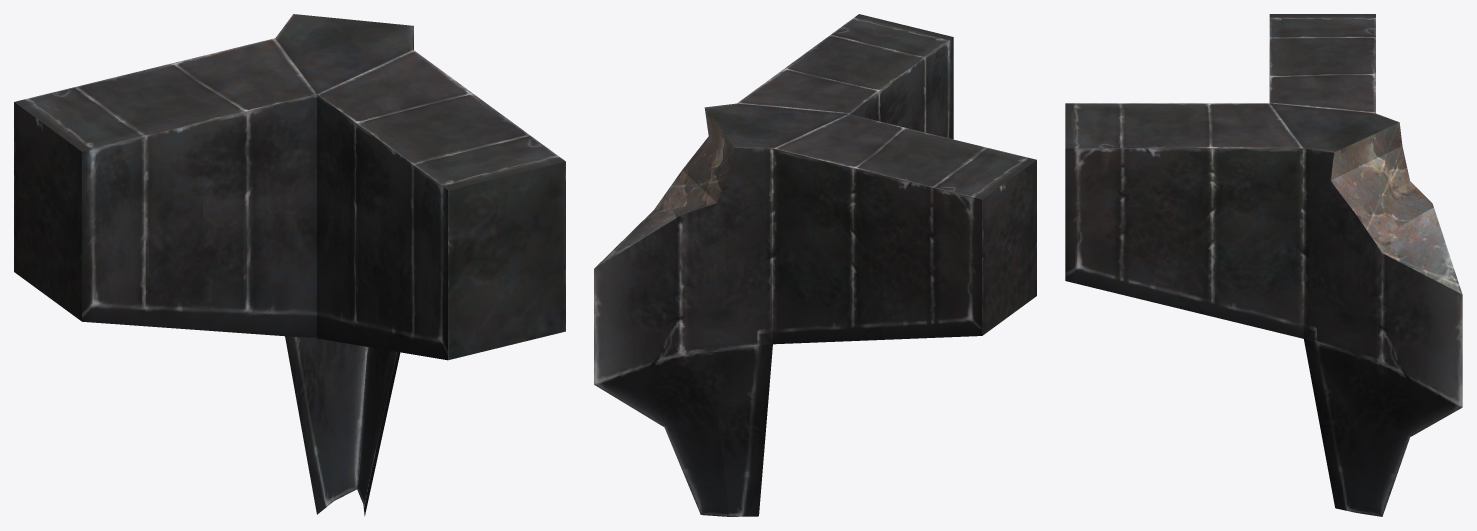
The model's file is A_zhuanjiao001_posun02.fbx.
3 views of the same model, side by side, from view 1: azimuth 30°, elevation 25°; view 2: azimuth 150°, elevation 25°; view 3: azimuth 270°, elevation 25° (orthographic). The views are drawn at different scales.
Visible parts, largest first — view 1: A_zhuanjiao001_posun02; view 2: A_zhuanjiao001_posun02; view 3: A_zhuanjiao001_posun02.
Boxes of the visible parts, left/top/right/bottom form: A_zhuanjiao001_posun02: left=14, top=14, right=565, bottom=516; A_zhuanjiao001_posun02: left=594, top=14, right=1036, bottom=516; A_zhuanjiao001_posun02: left=1065, top=14, right=1462, bottom=516.
Bounding box in the file's own units: 215 × 230 × 221.
